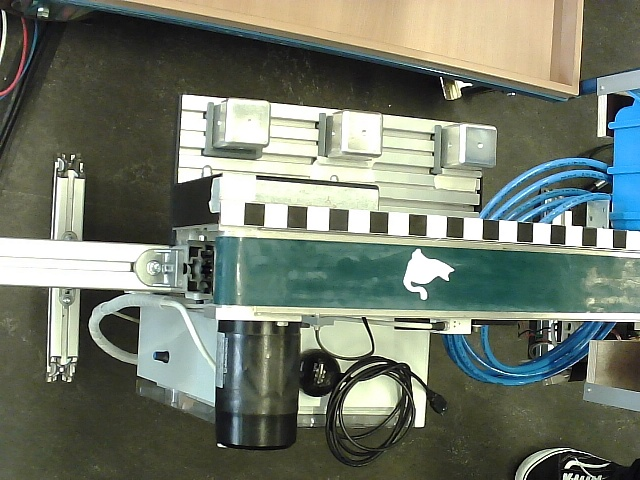cat: (403, 248, 455, 301)
